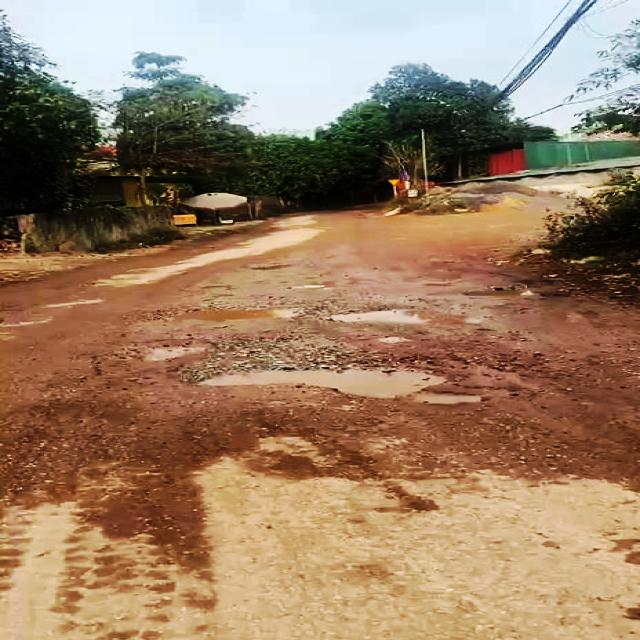pothole: (181, 360, 484, 408), (68, 336, 215, 384), (299, 297, 491, 332), (163, 301, 305, 325)
